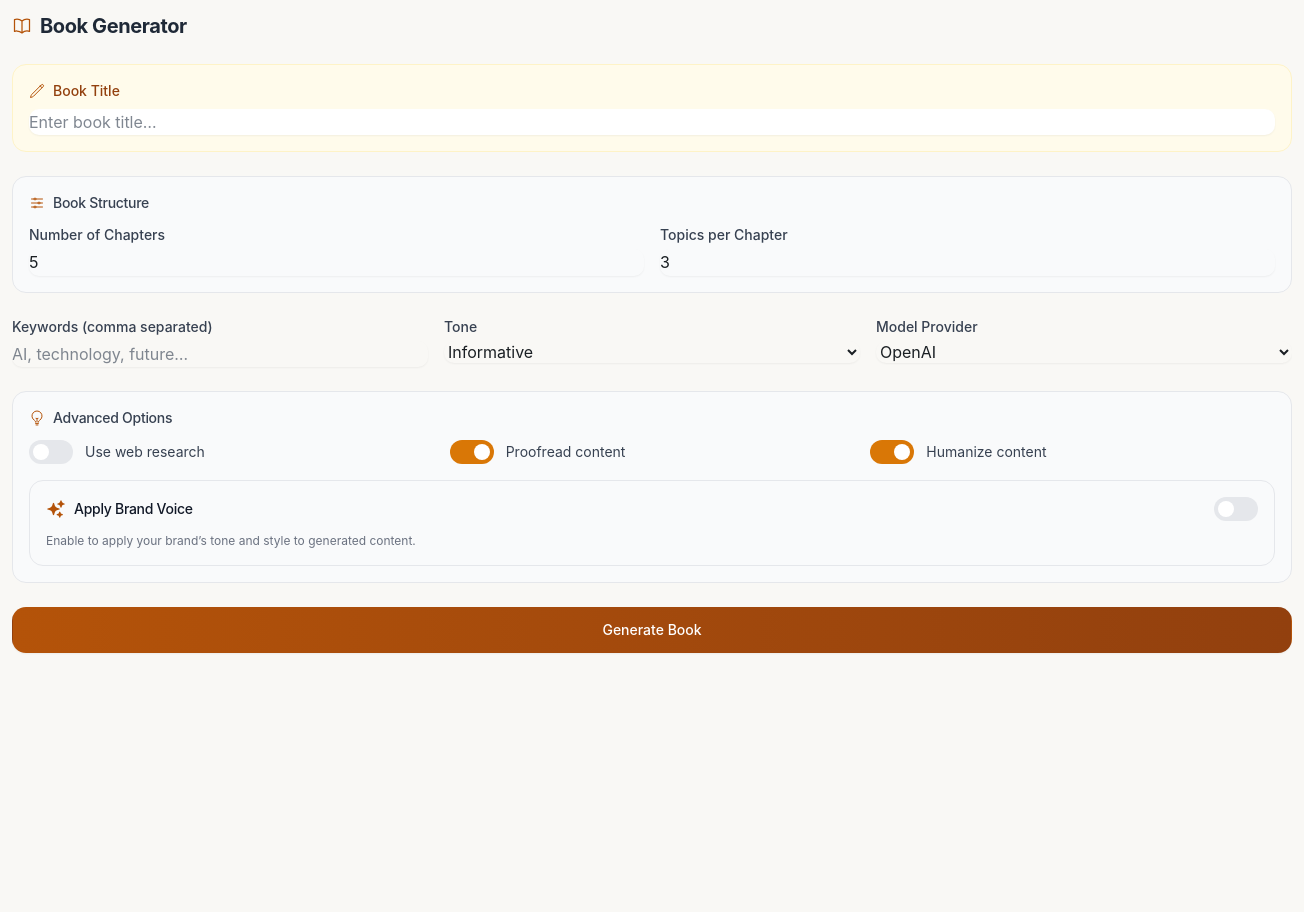
it: BookGenerator › Form Submission › should display error message on API failure
This screenshot has width=1304, height=912.
Type "Test Book" into the field labelled "Book Title".
click(652, 122); type("Test Book")  # box [29,109,1275,135]
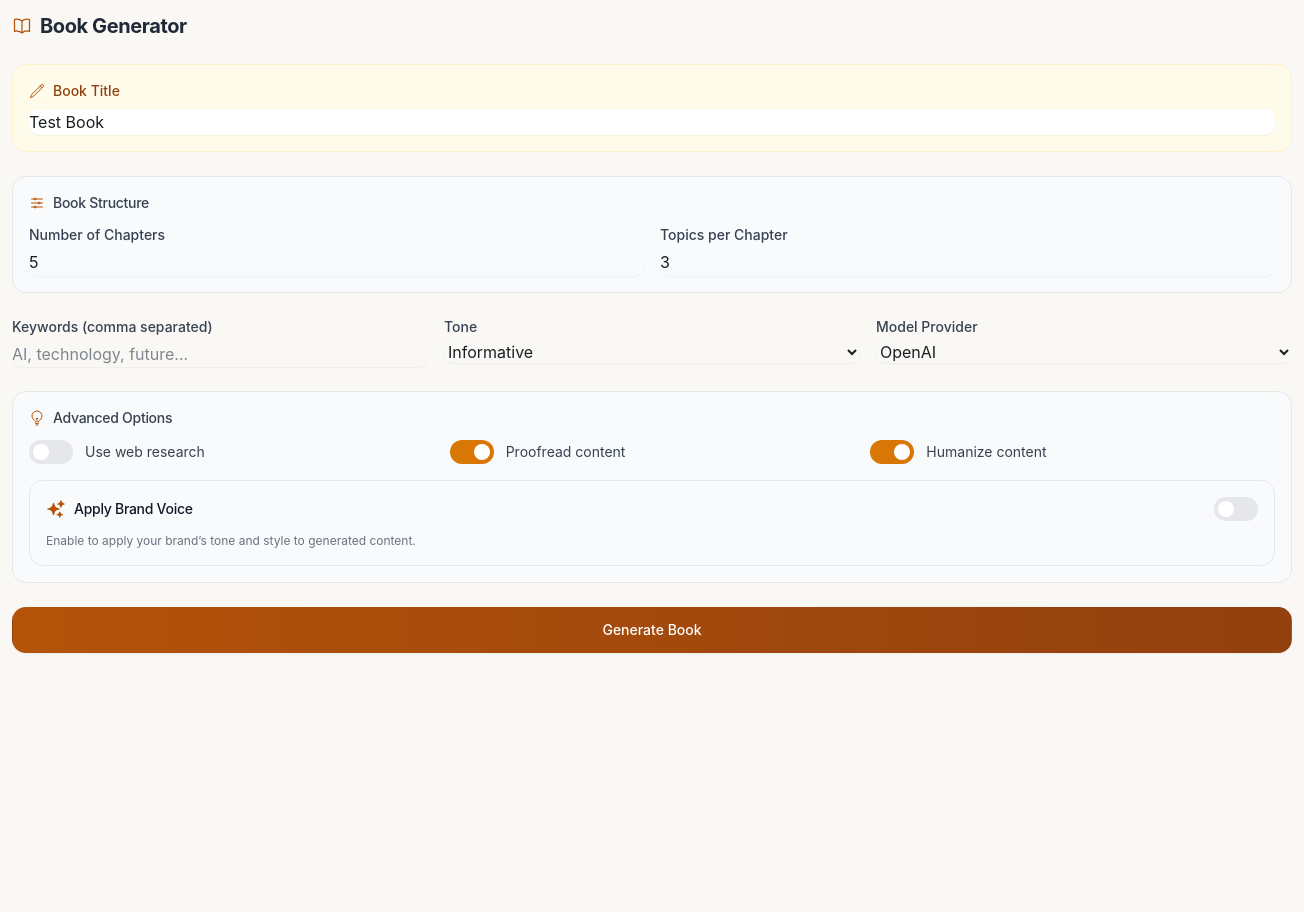
Submit the form from the button "Generate Book", box [12,607,1292,653]
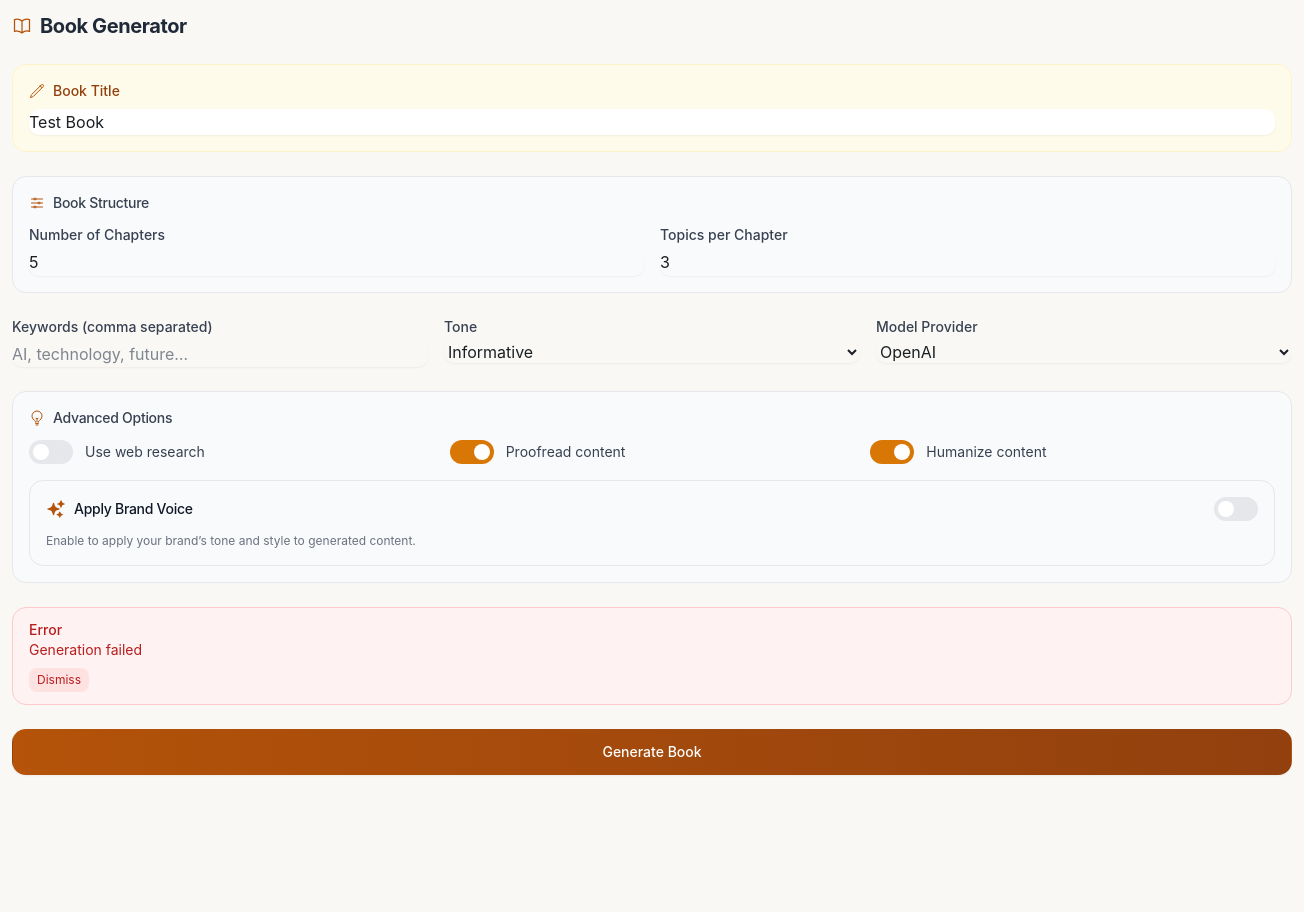
Check: the text "Error" is shown, box [29,621,62,638]
Check: the text "Generation failed" is shown, box [29,641,142,658]
